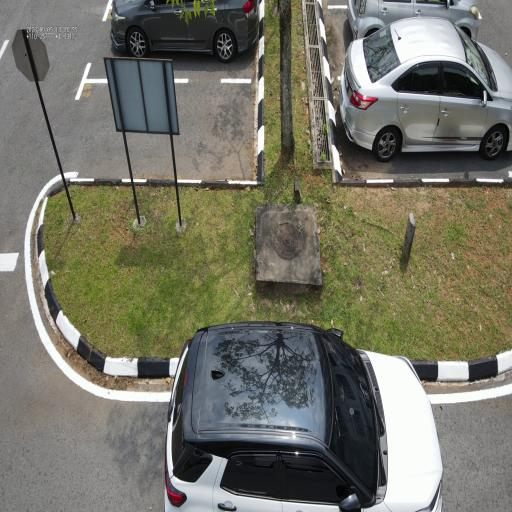Illegal: (164, 320, 444, 512)
